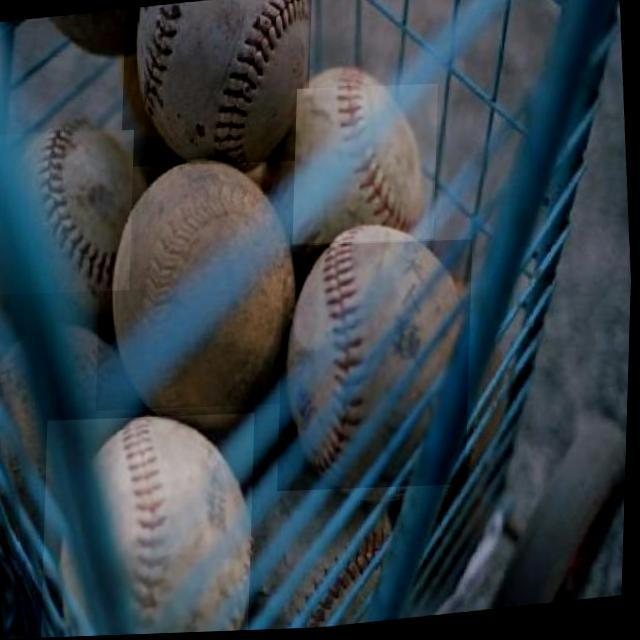-: (98, 163, 300, 412), (280, 244, 474, 494), (45, 415, 257, 638), (122, 0, 312, 172), (294, 87, 439, 246), (0, 131, 135, 295)
